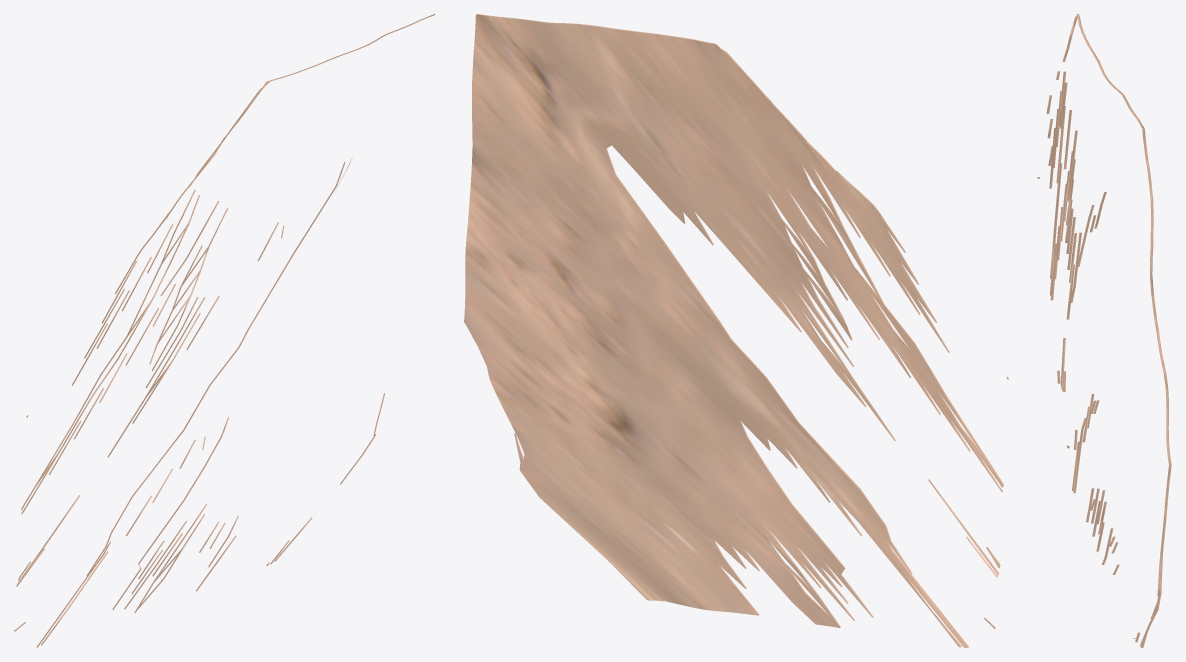
The picture shows the model from 3 angles, left to right: view 1: azimuth 30°, elevation 25°; view 2: azimuth 150°, elevation 25°; view 3: azimuth 270°, elevation 25°; orthographic projection. The views are drawn at different scales.
Size of the model in its own units: 15.59 by 16.71 by 3.32.
Materials: 1 (1 with a texture image).
